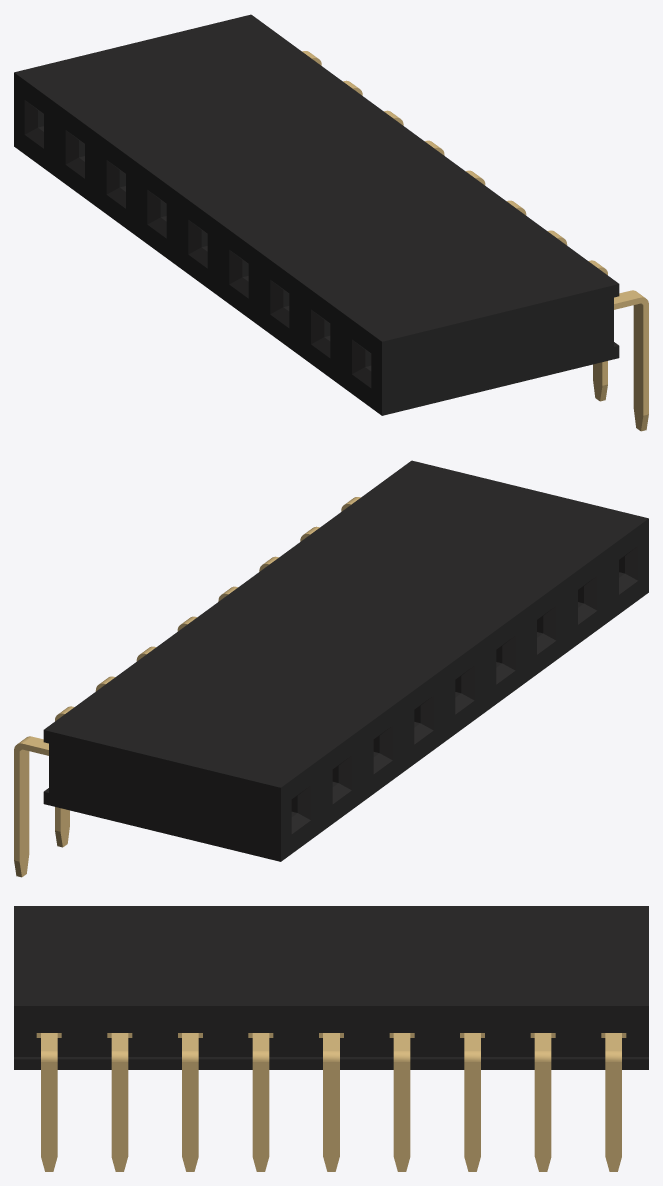
Rendered from kc-pinsocket_1x09_p2.54mm_horizontal.glb.
The picture shows the model from 3 angles, top to bottom: view 1: azimuth 30°, elevation 25°; view 2: azimuth 150°, elevation 25°; view 3: azimuth 270°, elevation 25°; orthographic projection. The views are drawn at different scales.
Visible parts, largest first — view 1: 0_0_0_0, 0.75_0.5_0.25_0.9; view 2: 0_0_0_0, 0.75_0.5_0.25_0.9; view 3: 0_0_0_0, 0.75_0.5_0.25_0.9.
Boxes of the visible parts, x1,y1,x2,y2 form: 0_0_0_0: [14, 14, 619, 415]; 0.75_0.5_0.25_0.9: [302, 51, 648, 431]; 0_0_0_0: [43, 460, 648, 861]; 0.75_0.5_0.25_0.9: [14, 497, 360, 877]; 0_0_0_0: [14, 906, 648, 1069]; 0.75_0.5_0.25_0.9: [36, 1033, 626, 1171].
Bounding box in the file's own units: 1.01 × 0.584 × 2.29.
